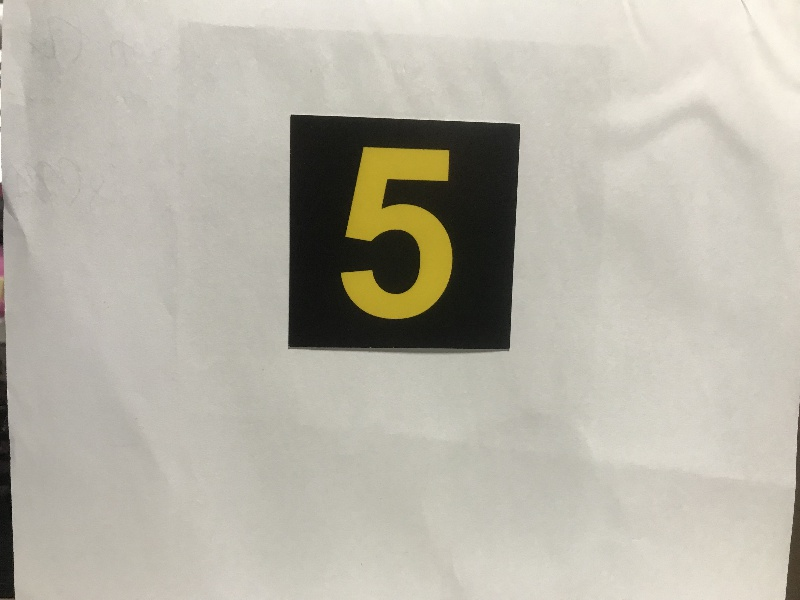Five-10: (294, 126, 508, 349)
